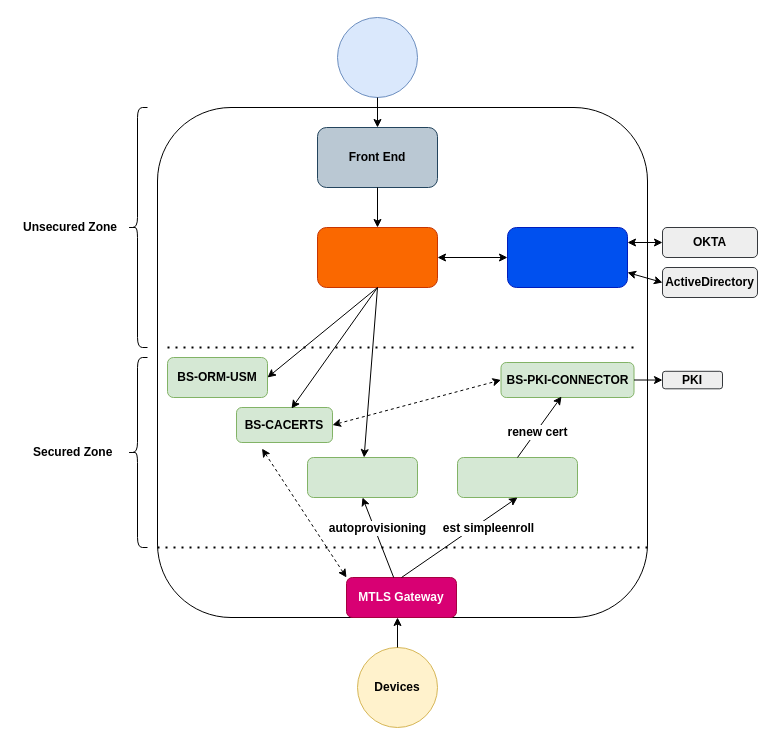
Image size: 775x745. Some labels were removed from this diagram. Each missing label, with the centre of its shape:
AS-FRONT: [377,257]
BS-CERT-MGR: [517,477]
BS-DEVICE-TWIN: [362,477]
KEYCLOAK: [567,257]
Users: [377,57]
